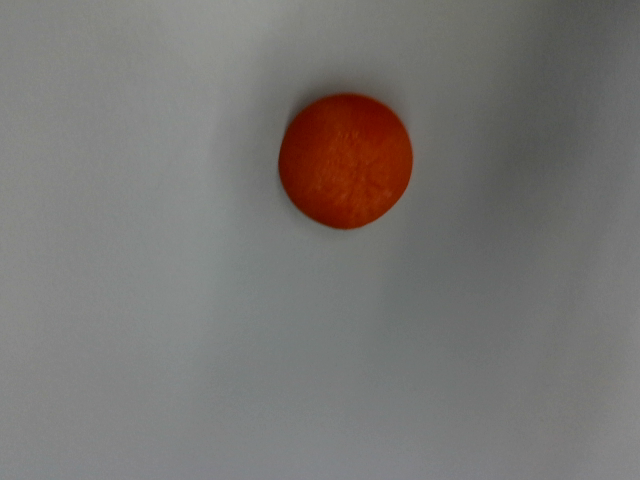orange: (251, 65, 439, 254)
